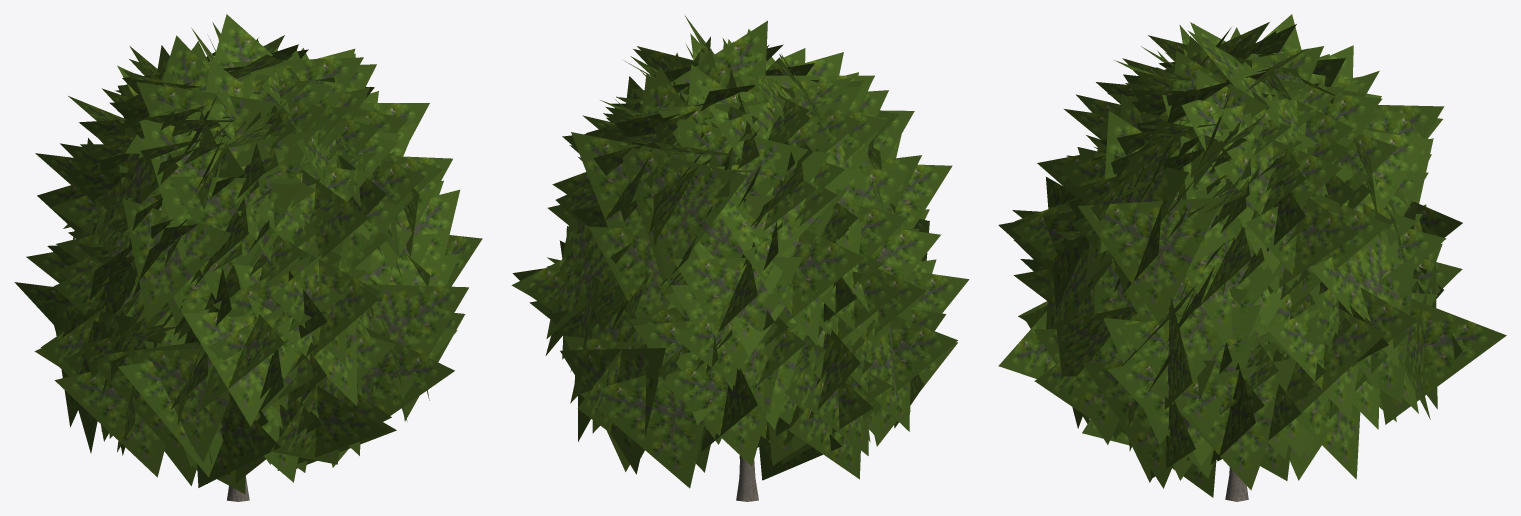
Rendered from Quercus_Robur_Spring_Young.glb.
3 renders of one model, left to right at view 1: azimuth 30°, elevation 25°; view 2: azimuth 150°, elevation 25°; view 3: azimuth 270°, elevation 25°, orthographic. The views are drawn at different scales.
Parts seen in each view (by area): view 1: Quercus_Robur_Spring_Young__LOD3; view 2: Quercus_Robur_Spring_Young__LOD3; view 3: Quercus_Robur_Spring_Young__LOD3.
Boxes of the visible parts, x1,y1,x2,y2 form: Quercus_Robur_Spring_Young__LOD3: [14, 14, 482, 501]; Quercus_Robur_Spring_Young__LOD3: [511, 16, 969, 501]; Quercus_Robur_Spring_Young__LOD3: [998, 14, 1506, 501].
Size of the model in its own units: 13.43 by 13.86 by 13.63.
2 materials, 2 textured.
